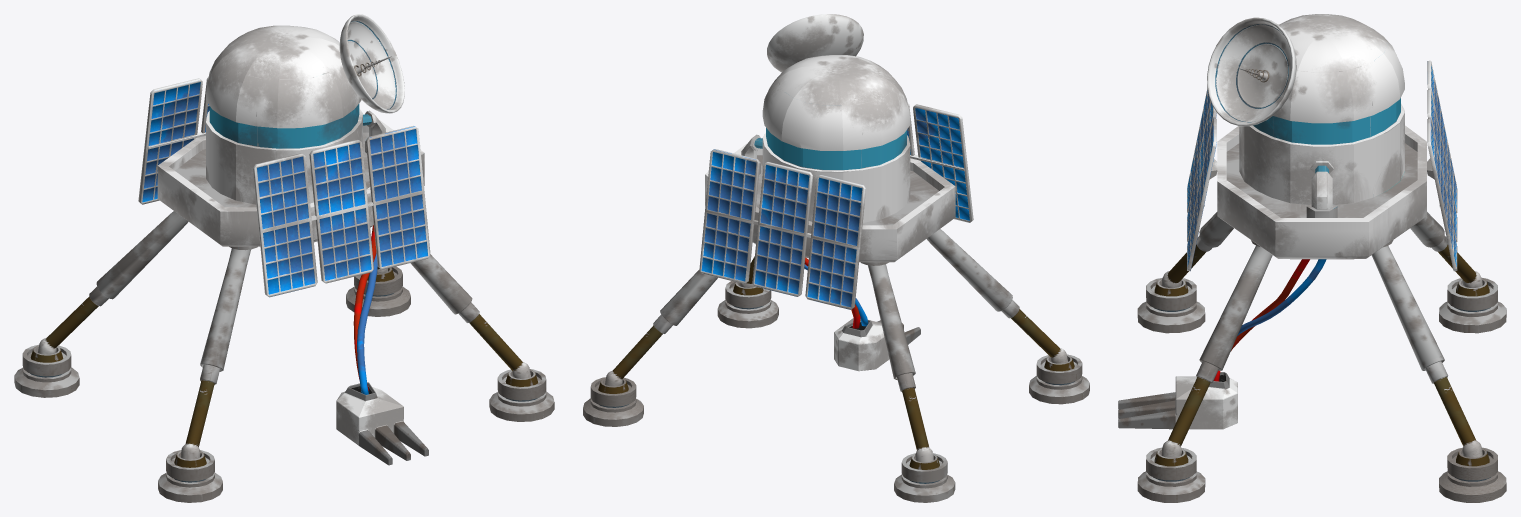
The model's file is Docking stationF2.fbx.
3 renders of one model, left to right at view 1: azimuth 30°, elevation 25°; view 2: azimuth 150°, elevation 25°; view 3: azimuth 270°, elevation 25°, orthographic. The views are drawn at different scales.
Parts seen in each view (by area): view 1: Cube, Cube.001, Cylinder.002, Cylinder.001, Cylinder, Sphere.004, Cube.003, Cylinder.003, Circle, Circle.001; view 2: Cube, Cube.001, Cylinder.001, Cylinder.002, Cylinder.003, Sphere.004, Cube.003, Cylinder; view 3: Cube, Sphere.004, Cylinder, Cylinder.003, Cube.001, Cylinder.002, Cube.003, Cylinder.001, Circle, Circle.001.
Part boxes in pixels (box(x1,y1,x2,y2)): Cube: box(157, 25, 424, 250); Cube.001: box(138, 77, 430, 297); Cylinder.002: box(158, 248, 251, 502); Cylinder.001: box(14, 211, 188, 397); Cylinder: box(410, 254, 554, 421); Sphere.004: box(339, 14, 404, 113); Cube.003: box(336, 382, 428, 465); Cylinder.003: box(346, 266, 410, 316); Circle: box(357, 253, 377, 394); Circle.001: box(353, 225, 376, 390); Cube: box(705, 55, 955, 265); Cube.001: box(699, 103, 973, 309); Cylinder.001: box(868, 264, 955, 502); Cylinder.002: box(927, 229, 1089, 404); Cylinder.003: box(583, 270, 717, 426); Sphere.004: box(767, 14, 863, 72); Cube.003: box(834, 318, 920, 371); Cylinder: box(717, 256, 778, 328); Cube: box(1217, 14, 1426, 259); Sphere.004: box(1207, 17, 1296, 126); Cylinder: box(1137, 246, 1272, 502); Cylinder.003: box(1371, 246, 1506, 502); Cube.001: box(1187, 60, 1457, 271); Cylinder.002: box(1137, 212, 1233, 333); Cube.003: box(1118, 372, 1237, 429); Cylinder.001: box(1410, 212, 1506, 333); Circle: box(1237, 259, 1326, 335); Circle.001: box(1213, 259, 1309, 381).
Bounding box in the file's own units: 934 × 889 × 773.
